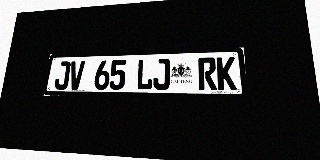5: (109, 60, 126, 90)
6: (94, 60, 111, 90)
J: (153, 59, 170, 90), (54, 61, 71, 90)
K: (216, 57, 237, 90)
L: (136, 59, 153, 90)
R: (198, 57, 217, 90)
V: (68, 61, 85, 90)
